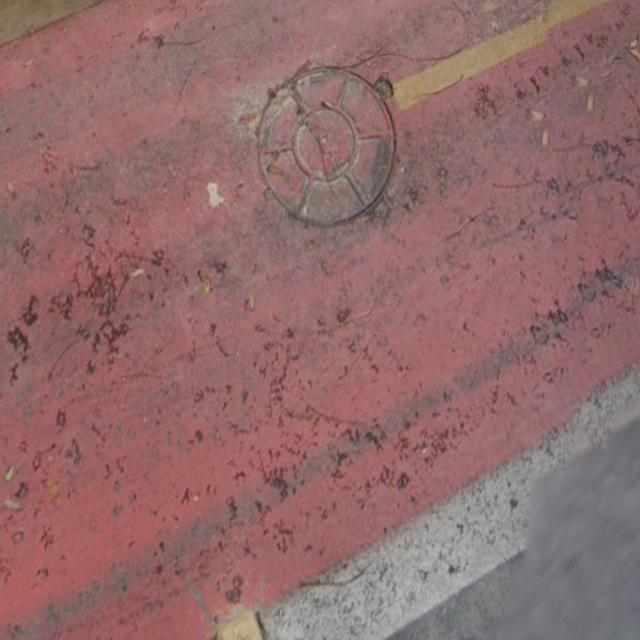Bueiro: (256, 56, 406, 236)
